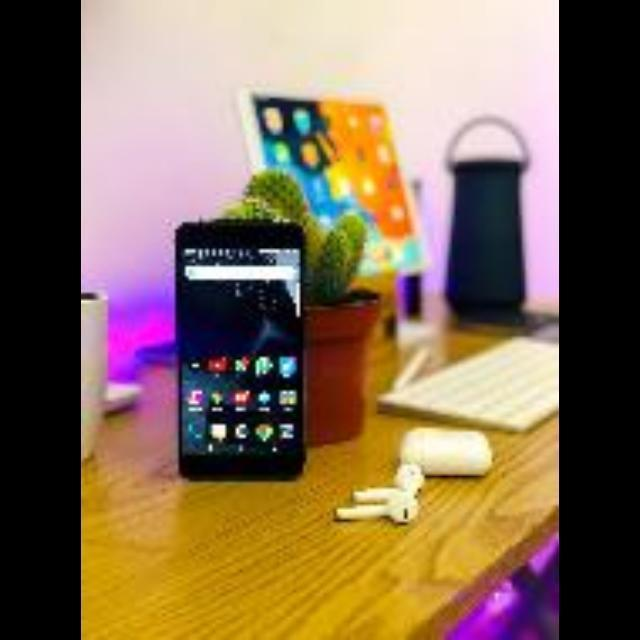phone: (150, 199, 322, 507)
